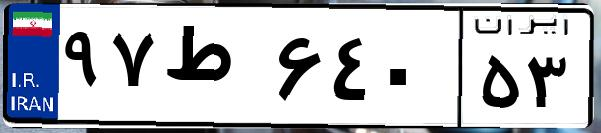0: (385, 28, 445, 110)
3: (525, 38, 570, 115)
4: (330, 28, 385, 110)
5: (475, 38, 525, 113)
6: (270, 28, 330, 110)
7: (110, 28, 158, 98)
9: (57, 26, 110, 100)
ط: (158, 20, 270, 120)
